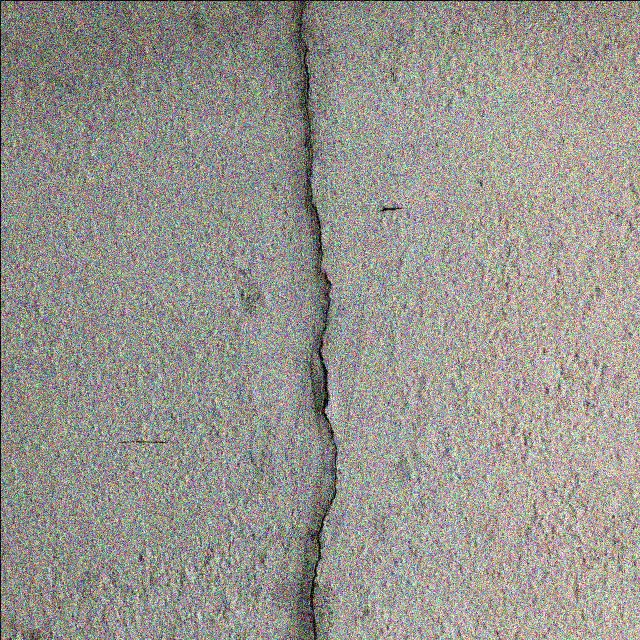SurfaceCrack: (248, 0, 382, 640)
